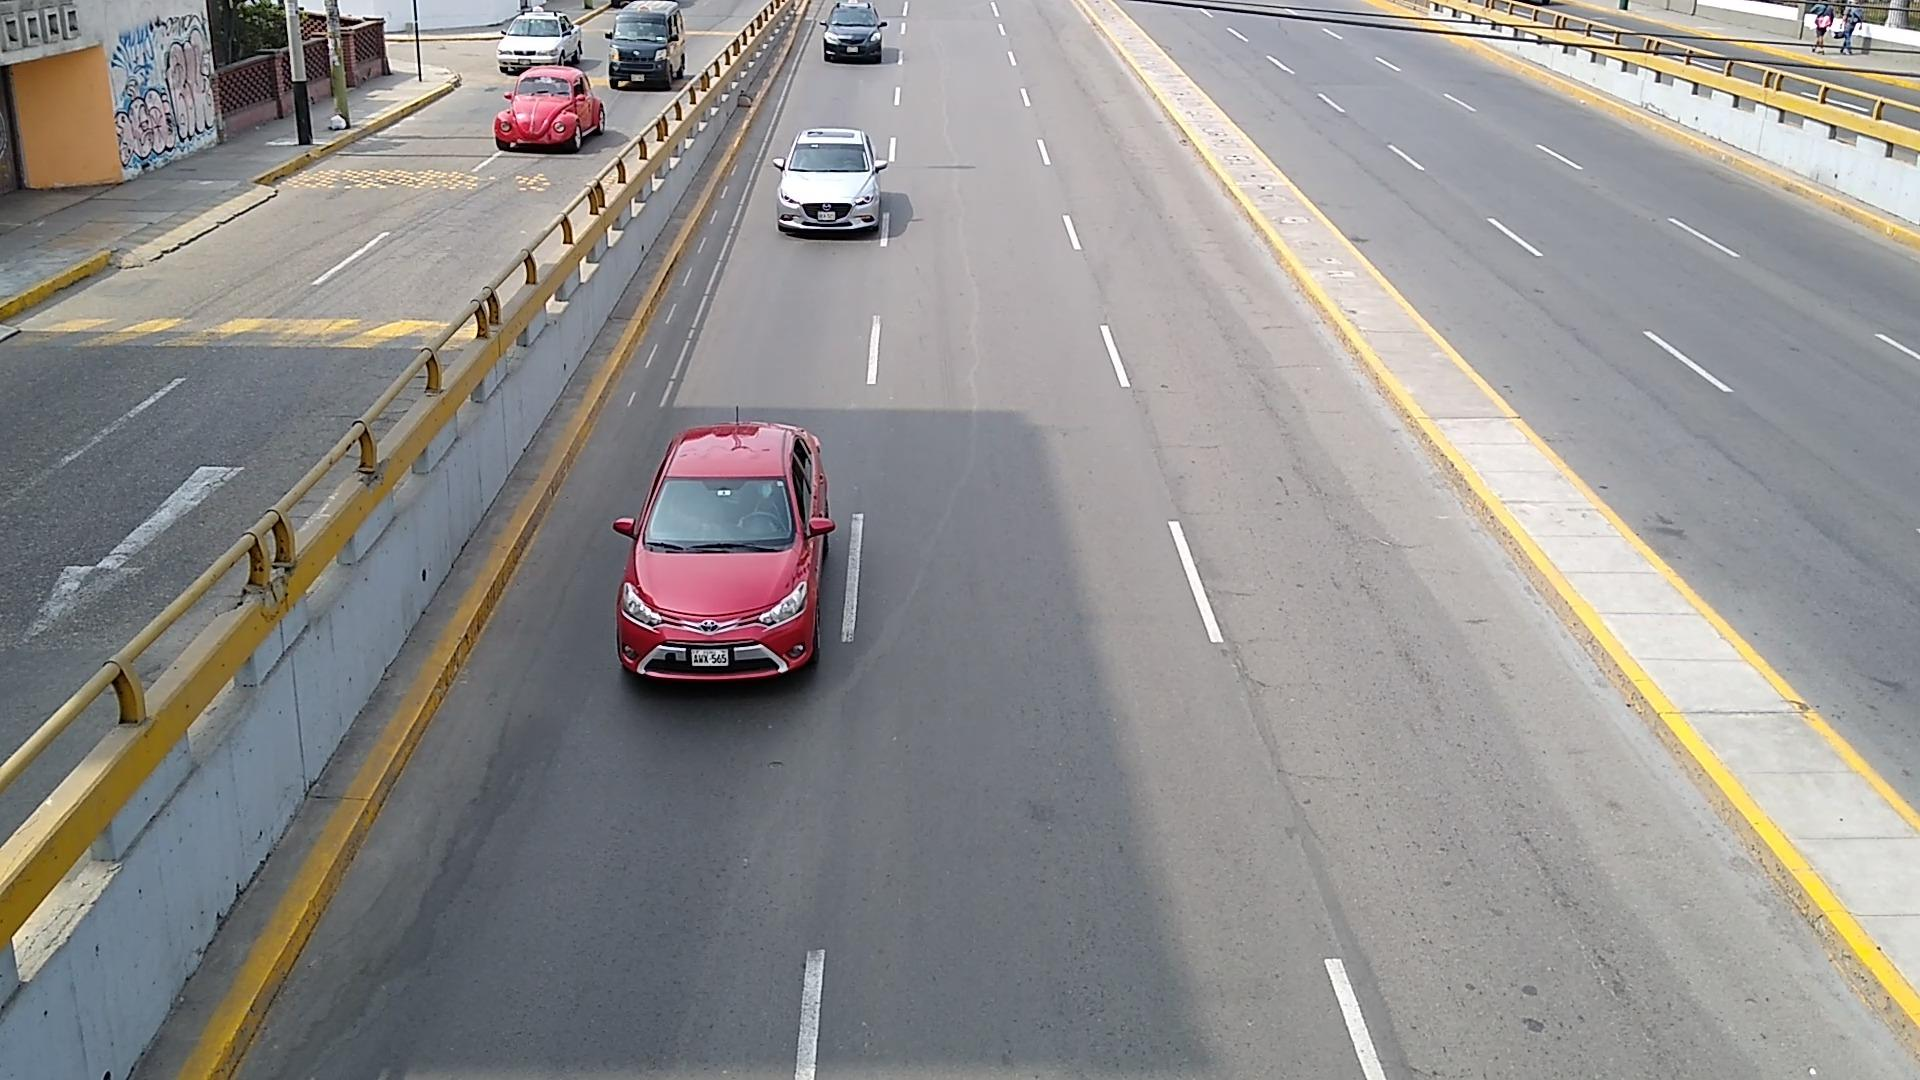car: (615, 423, 836, 679), (773, 128, 889, 231), (495, 67, 604, 150), (498, 8, 582, 75), (822, 0, 885, 58)
minivan: (608, 0, 686, 88)
